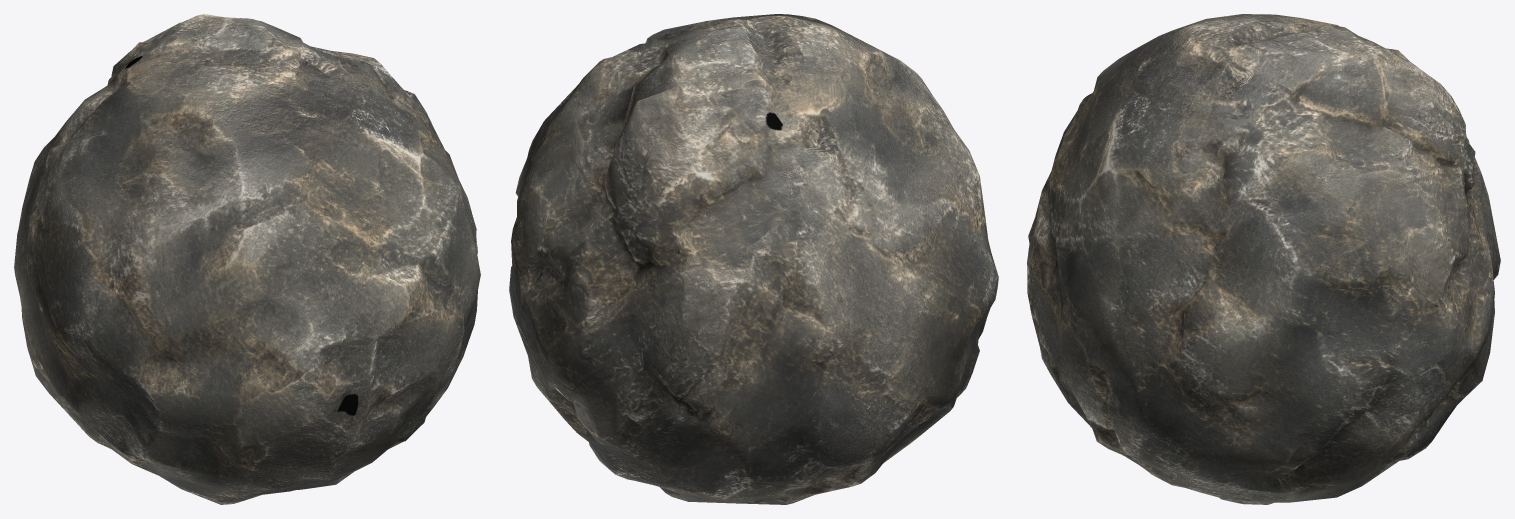
The model's file is Meshy_AI_Rugged_Stone_Sphere_0618082844_texture.fbx.
3 renders of one model, left to right at view 1: azimuth 30°, elevation 25°; view 2: azimuth 150°, elevation 25°; view 3: azimuth 270°, elevation 25°, orthographic. The views are drawn at different scales.
Parts seen in each view (by area): view 1: Mesh1.0; view 2: Mesh1.0; view 3: Mesh1.0.
Part boxes in pixels (bbox=[...]): Mesh1.0: bbox=[14, 14, 480, 504]; Mesh1.0: bbox=[509, 14, 998, 504]; Mesh1.0: bbox=[1027, 14, 1500, 504].
Bounding box in the file's own units: 187 × 191 × 183.
Materials: 1 (1 with a texture image).
